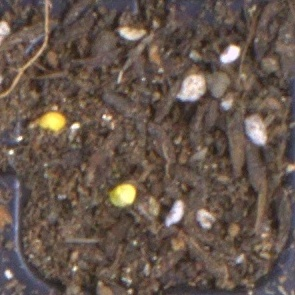chilli seed: (109, 182, 136, 208), (35, 111, 66, 130)
